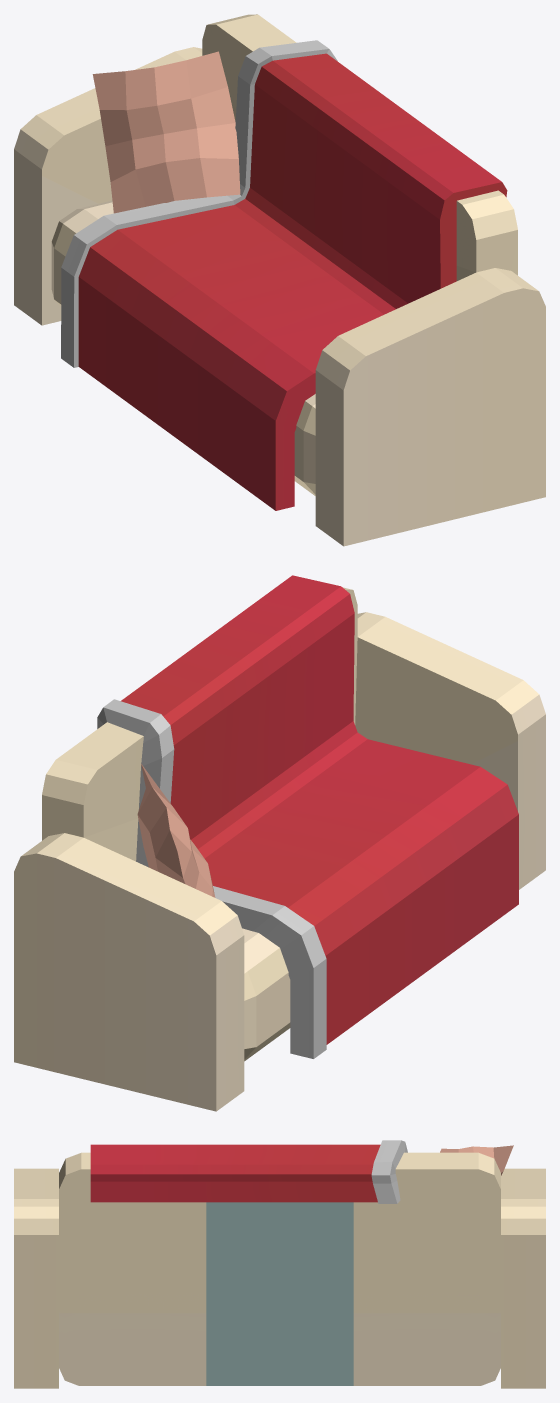
Rendered from divan.fbx.
3 renders of one model, top to bottom at view 1: azimuth 30°, elevation 25°; view 2: azimuth 150°, elevation 25°; view 3: azimuth 270°, elevation 25°, orthographic. The views are drawn at different scales.
Parts seen in each view (by area): view 1: Cube.005; view 2: Cube.005; view 3: Cube.005.
Boxes of the visible parts, x1,y1,x2,y2 form: Cube.005: [14, 14, 545, 546]; Cube.005: [14, 575, 545, 1111]; Cube.005: [14, 1140, 545, 1388].
Bounding box in the file's own units: 238 × 269 × 564.
